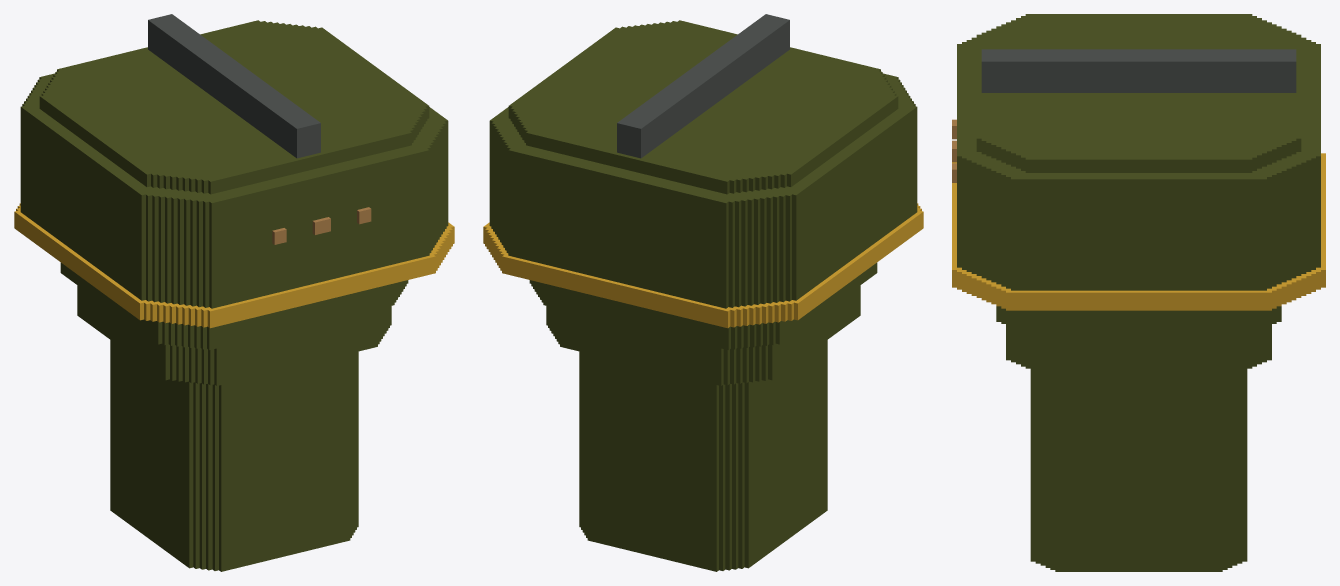
File: armor_trooper_worn_upper.glb
3 renders of one model, left to right at view 1: azimuth 30°, elevation 25°; view 2: azimuth 150°, elevation 25°; view 3: azimuth 270°, elevation 25°, orthographic. The views are drawn at different scales.
Parts seen in each view (by area): view 1: armor_trooper_worn_upper:compound; view 2: armor_trooper_worn_upper:compound; view 3: armor_trooper_worn_upper:compound.
Boxes of the visible parts, x1,y1,x2,y2 form: armor_trooper_worn_upper:compound: (14,14,454,571); armor_trooper_worn_upper:compound: (483,14,923,571); armor_trooper_worn_upper:compound: (952,14,1325,571).
Bounding box in the file's own units: 0.312 × 0.424 × 0.304.
